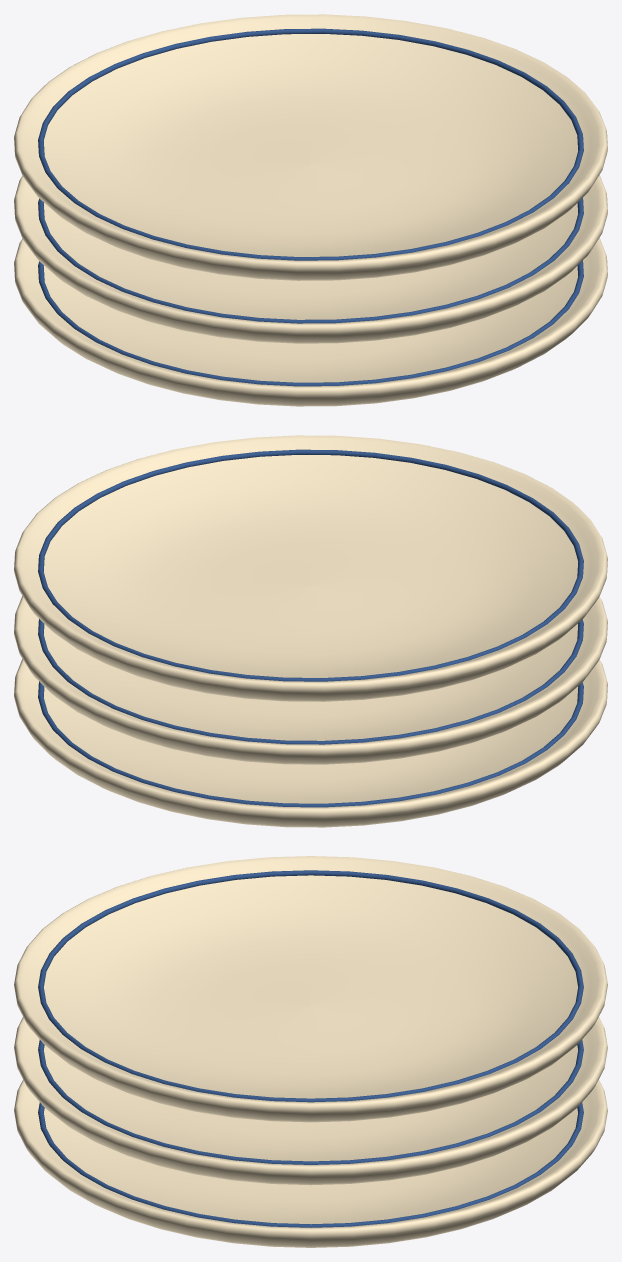
The model's file is plate-stack-426.glb.
3 views of the same model, one above another, from view 1: azimuth 30°, elevation 25°; view 2: azimuth 150°, elevation 25°; view 3: azimuth 270°, elevation 25° (orthographic).
Parts seen in each view (by area): view 1: ivory, blue; view 2: ivory, blue; view 3: ivory, blue.
Part boxes in pixels (left/top/right/bottom): ivory: left=14, top=14, right=607, bottom=406; blue: left=38, top=28, right=583, bottom=386; ivory: left=14, top=435, right=607, bottom=827; blue: left=38, top=449, right=583, bottom=807; ivory: left=14, top=856, right=607, bottom=1247; blue: left=38, top=870, right=583, bottom=1227.
Bounding box in the file's own units: 2.4 × 0.726 × 2.4.
